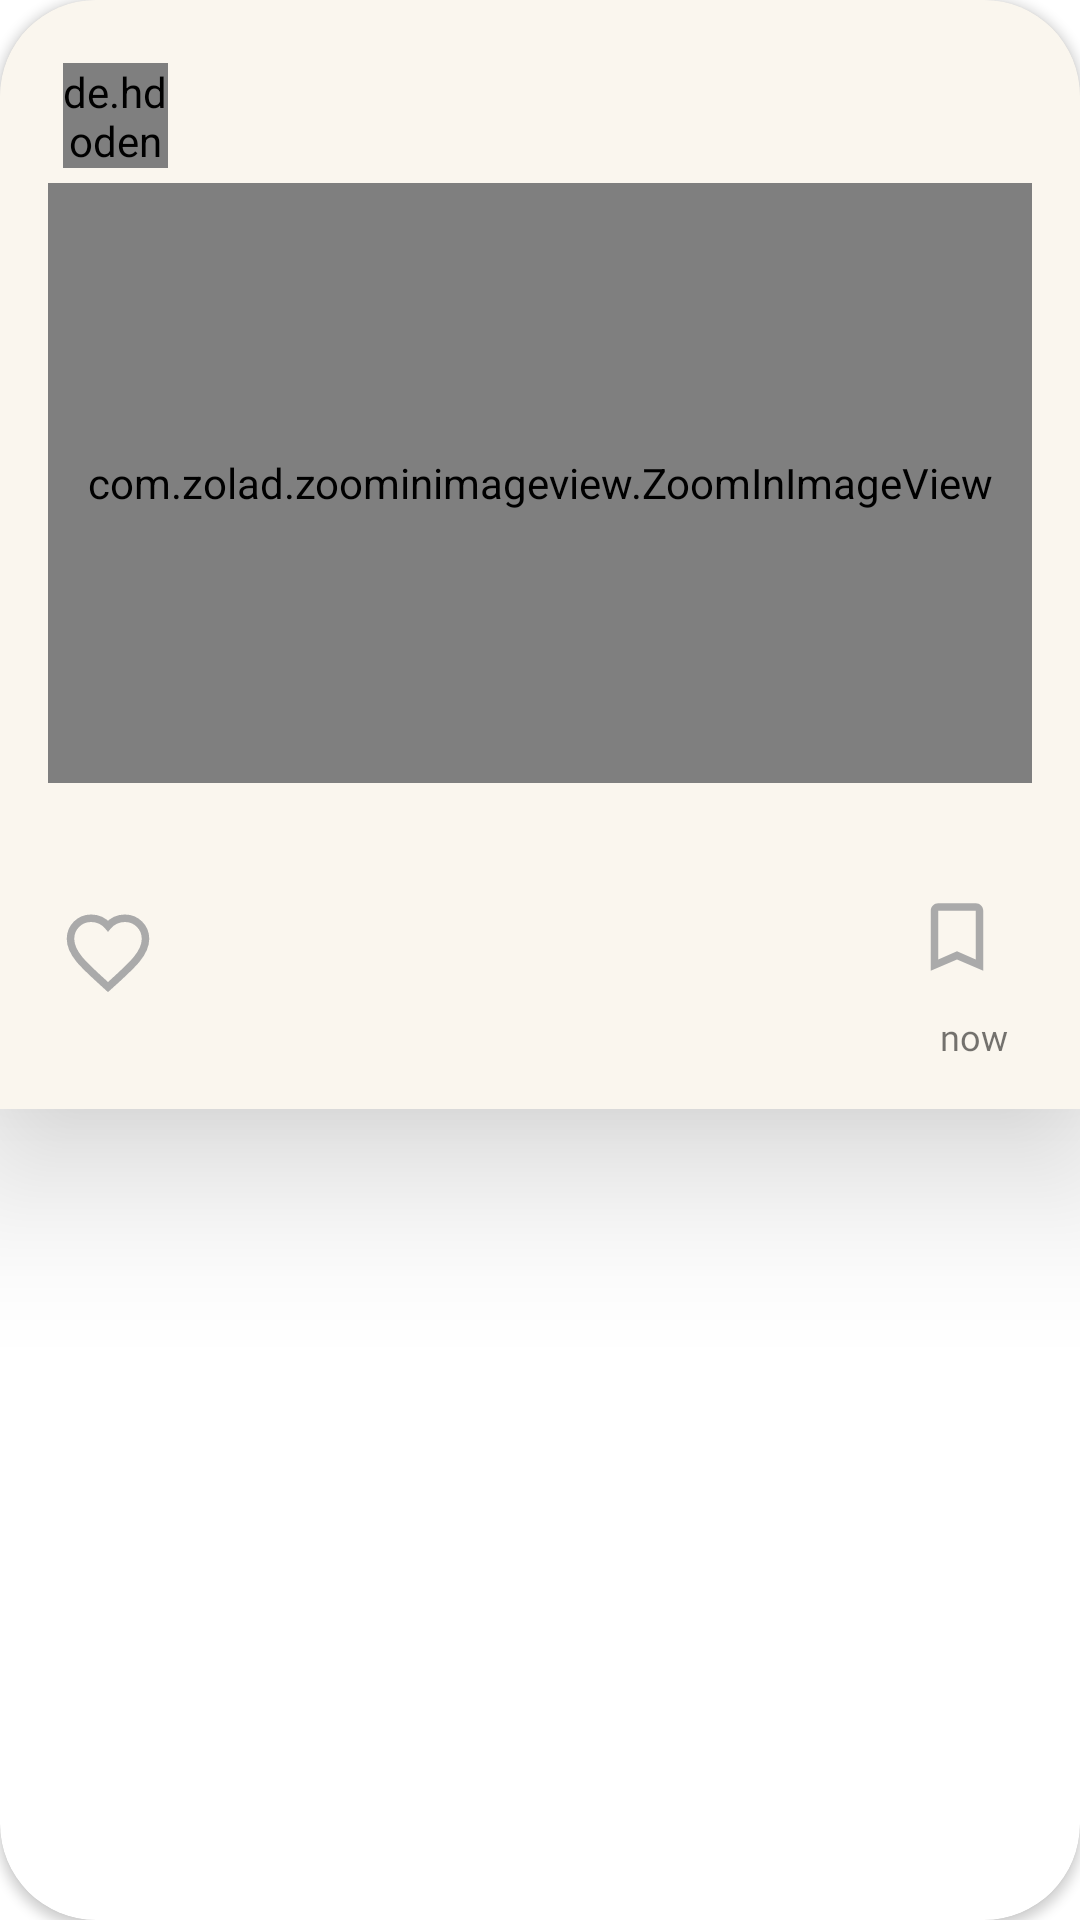

Icons on this 1080*1920 Android screen, each with the point to tap as (x,y):
bookmark border: (957,937)
like border: (108,953)
